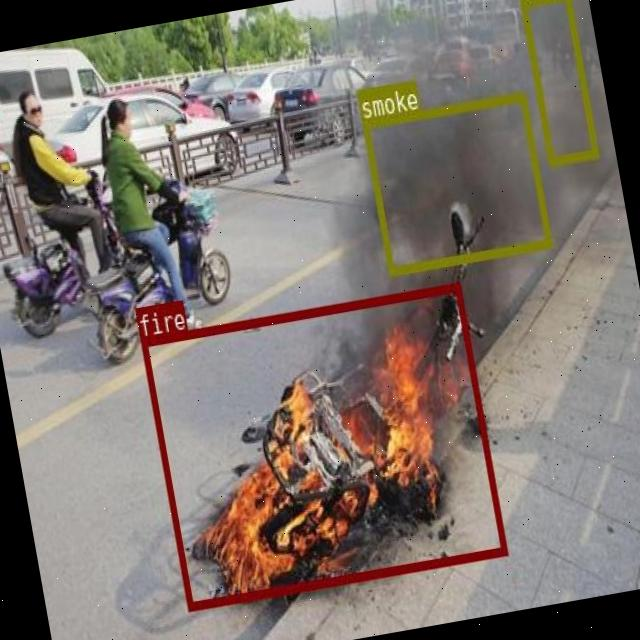fire: (140, 282, 506, 610)
smoke: (360, 92, 550, 274), (519, 0, 596, 164)
